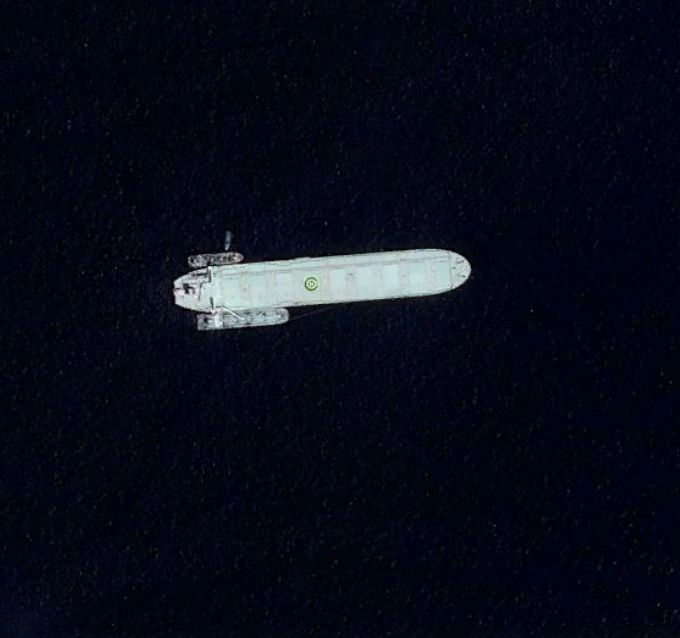boat: (172, 247, 472, 331)
